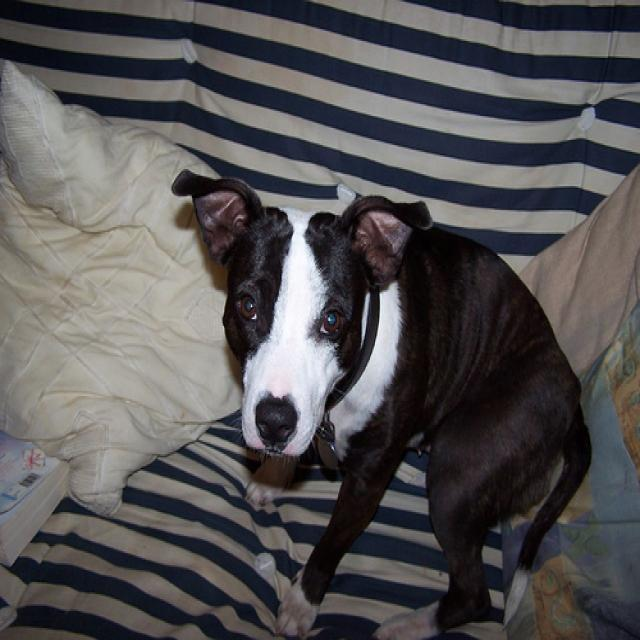dog-staffordshire_bull_terrier: (159, 147, 608, 637)
